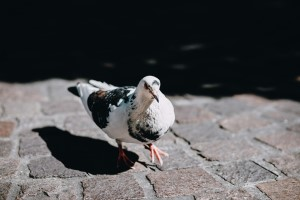pigeon: (66, 74, 176, 170)
